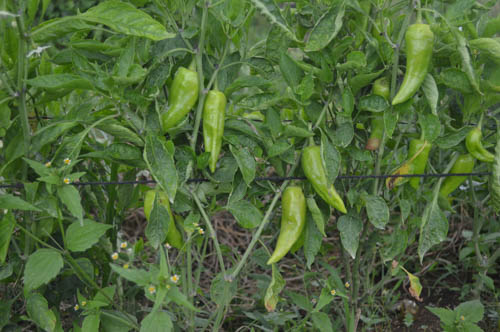ChiliPepper: (391, 25, 433, 110), (267, 189, 308, 268), (301, 147, 347, 214), (158, 68, 199, 130), (199, 90, 225, 175), (145, 188, 178, 249), (435, 156, 473, 200), (368, 82, 391, 142), (407, 138, 430, 189), (464, 129, 491, 162)
